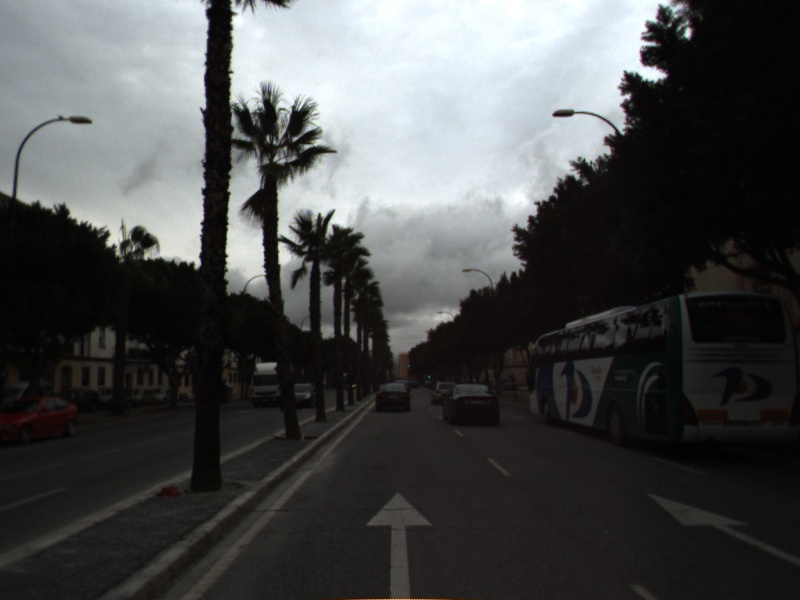STRAIGHT: (642, 489, 800, 567), (362, 488, 437, 600)
